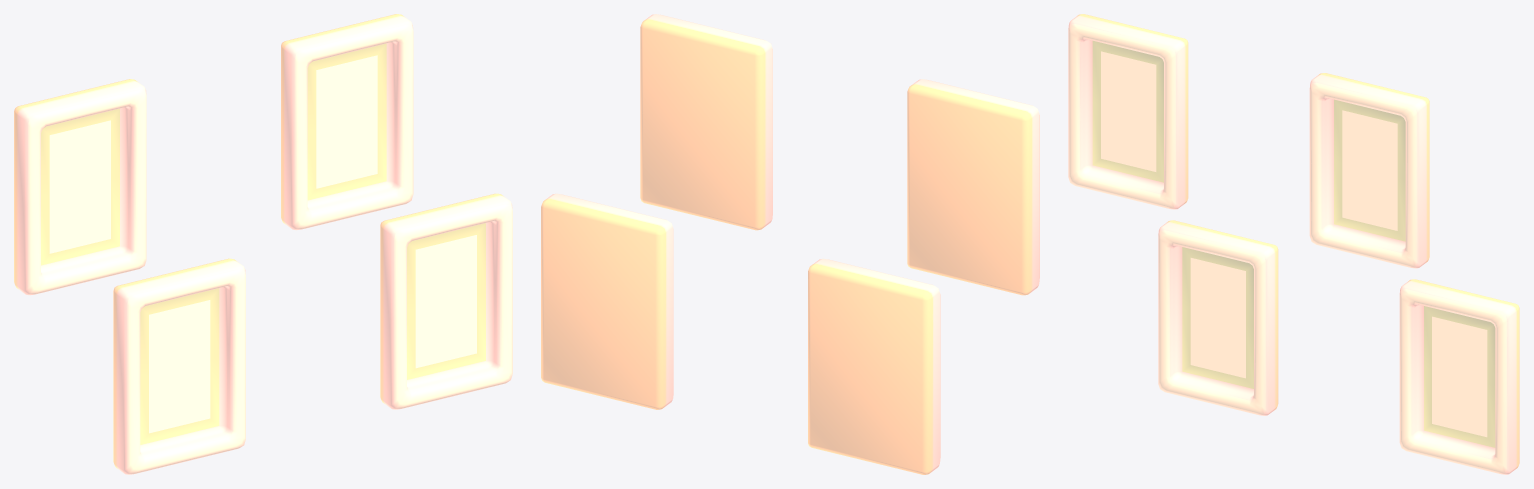
File: frames.gltf
The picture shows the model from 3 angles, left to right: view 1: azimuth 30°, elevation 25°; view 2: azimuth 150°, elevation 25°; view 3: azimuth 330°, elevation 25°; orthographic projection. The views are drawn at different scales.
Parts seen in each view (by area): view 1: frame.002_50, frame.005_62, frame.004_61, frame.003_51; view 2: frame.002_50, frame.005_62, frame.003_51, frame.004_61; view 3: frame.005_62, frame.004_61, frame.002_50, frame.003_51.
Boxes of the visible parts, x1=… form: frame.002_50: x1=380, y1=193, x2=512, y2=409; frame.005_62: x1=14, y1=79, x2=146, y2=295; frame.004_61: x1=113, y1=258, x2=245, y2=474; frame.003_51: x1=281, y1=14, x2=413, y2=230; frame.002_50: x1=541, y1=193, x2=673, y2=409; frame.005_62: x1=907, y1=79, x2=1039, y2=295; frame.003_51: x1=640, y1=14, x2=772, y2=230; frame.004_61: x1=808, y1=258, x2=940, y2=474; frame.005_62: x1=1068, y1=14, x2=1188, y2=209; frame.004_61: x1=1158, y1=220, x2=1278, y2=415; frame.002_50: x1=1399, y1=279, x2=1519, y2=474; frame.003_51: x1=1309, y1=73, x2=1429, y2=268.
Size of the model in its own units: 1.1 by 0.8293 by 0.0608.
1 material, 1 textured.
